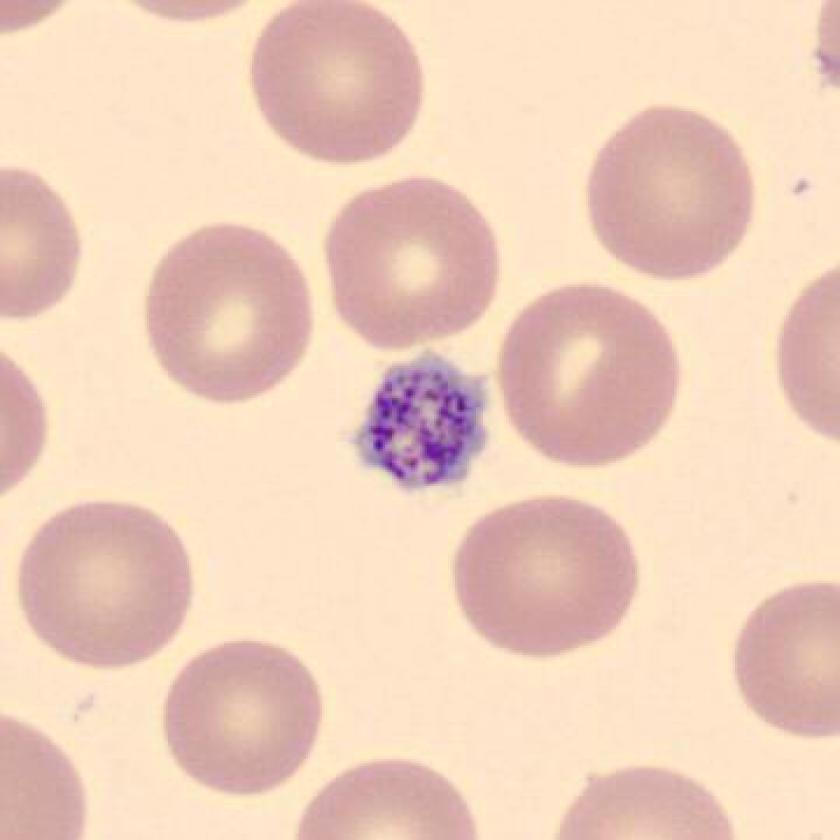platelets: (351, 346, 496, 503)
